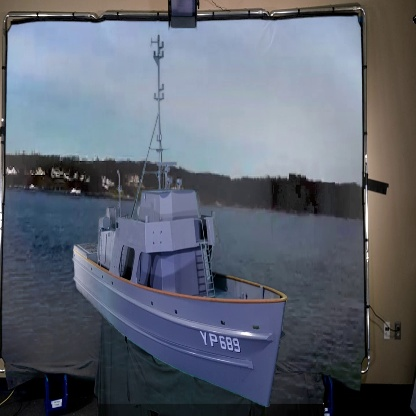YP689: (76, 38, 281, 412)
